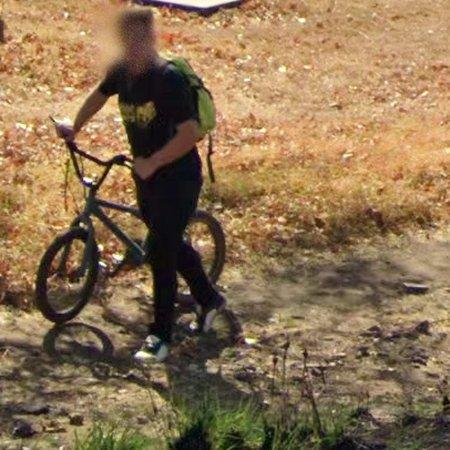bicycles: (186, 211, 225, 284)
